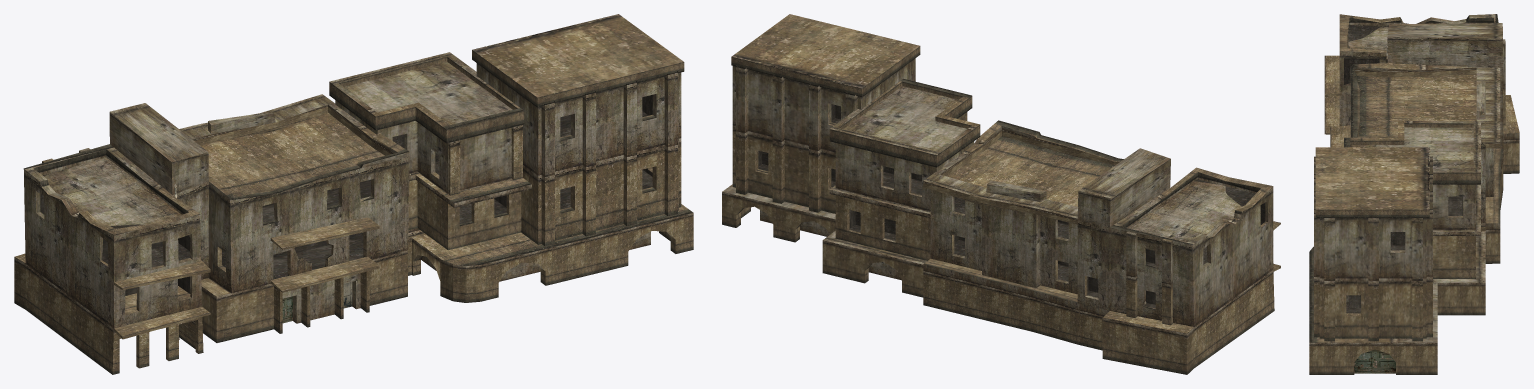
File: Crdrblk1.glb
The picture shows the model from 3 angles, left to right: view 1: azimuth 30°, elevation 25°; view 2: azimuth 150°, elevation 25°; view 3: azimuth 270°, elevation 25°; orthographic projection. The views are drawn at different scales.
Parts seen in each view (by area): view 1: _Crdrblk1; view 2: _Crdrblk1; view 3: _Crdrblk1.
Boxes of the visible parts, bbox=[...] form: _Crdrblk1: bbox=[14, 14, 693, 374]; _Crdrblk1: bbox=[722, 14, 1280, 374]; _Crdrblk1: bbox=[1309, 14, 1519, 374].
Size of the model in its own units: 63.76 by 20.38 by 23.65.
Materials: 4 (4 with a texture image).
